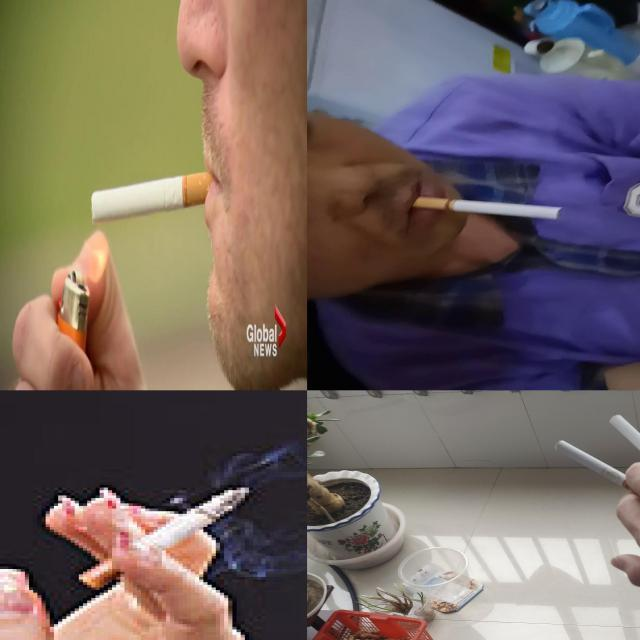smoke: (78, 486, 254, 590), (91, 170, 221, 224), (555, 440, 640, 502), (412, 197, 562, 221), (609, 414, 640, 486)
